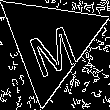M_N: (22, 10, 79, 75)
